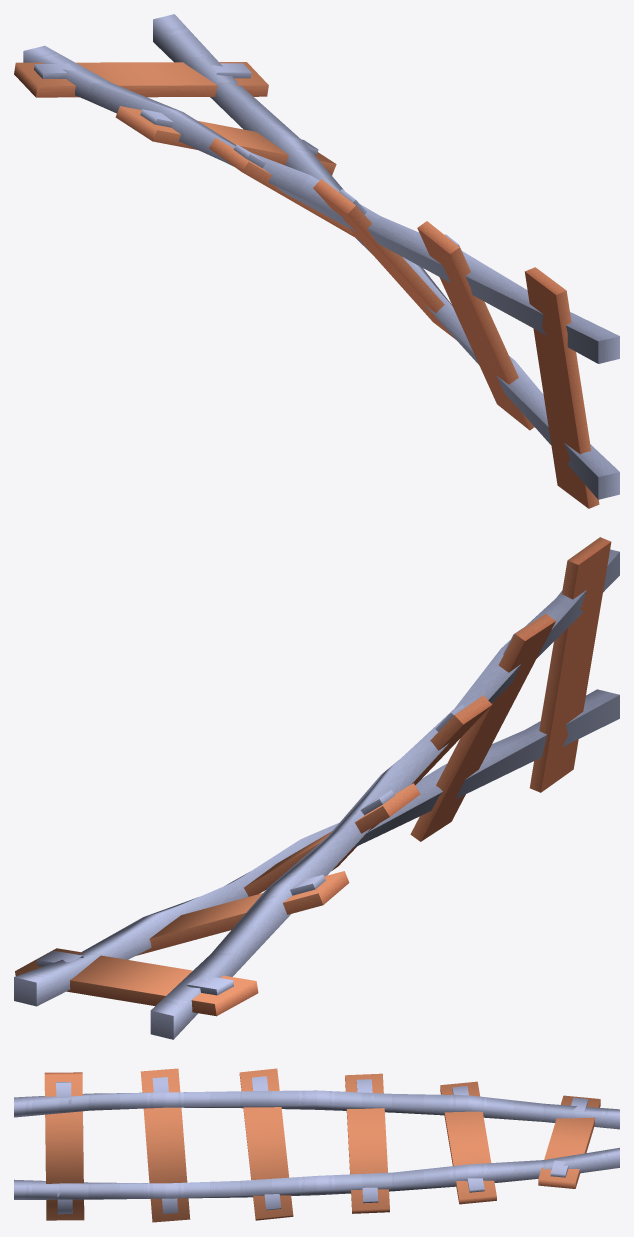
The model's file is railroad-damaged-straight-skew-left-side.glb.
The picture shows the model from 3 angles, top to bottom: view 1: azimuth 30°, elevation 25°; view 2: azimuth 150°, elevation 25°; view 3: azimuth 270°, elevation 25°; orthographic projection. The views are drawn at different scales.
Parts seen in each view (by area): view 1: railroad-damaged-straight-skew-left-side; view 2: railroad-damaged-straight-skew-left-side; view 3: railroad-damaged-straight-skew-left-side.
Part boxes in pixels (x1,y1,x2,y2): railroad-damaged-straight-skew-left-side: (14,14,619,508); railroad-damaged-straight-skew-left-side: (14,537,619,1039); railroad-damaged-straight-skew-left-side: (14,1068,619,1222).
Size of the model in its own units: 1.02 by 0.9981 by 4.
Materials: 1 (1 with a texture image).
